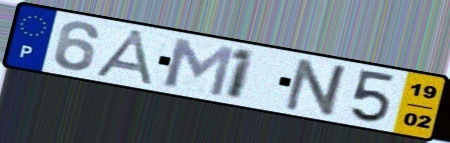1: (227, 47, 256, 103)
5: (345, 67, 401, 126)
6: (51, 20, 101, 72)
A: (90, 28, 159, 88)
M: (161, 35, 237, 99)
N: (280, 56, 354, 120)
